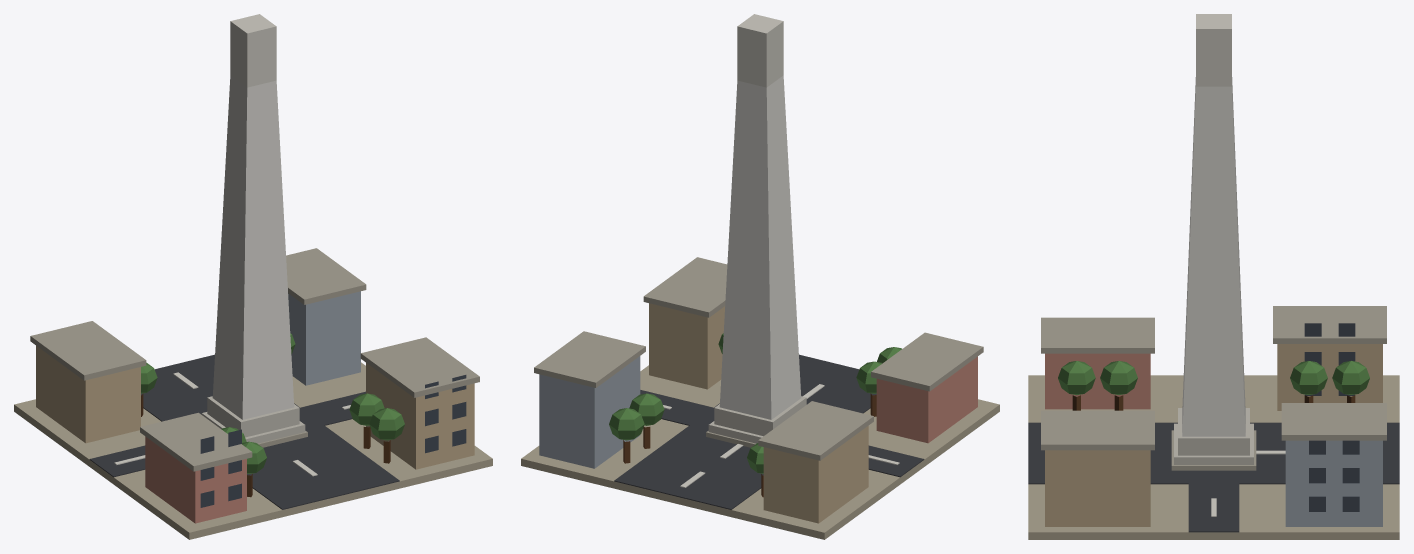
Rendered from obelisque.glb.
3 views of the same model, side by side, from view 1: azimuth 30°, elevation 25°; view 2: azimuth 150°, elevation 25°; view 3: azimuth 270°, elevation 25° (orthographic). The views are drawn at different scales.
Parts seen in each view (by area): view 1: obelisque; view 2: obelisque; view 3: obelisque.
Part boxes in pixels (left/top/right/bottom): obelisque: left=14, top=14, right=492, bottom=539; obelisque: left=521, top=14, right=999, bottom=539; obelisque: left=1028, top=14, right=1399, bottom=539.
Size of the model in its own units: 1.76 by 2.3 by 1.76.
